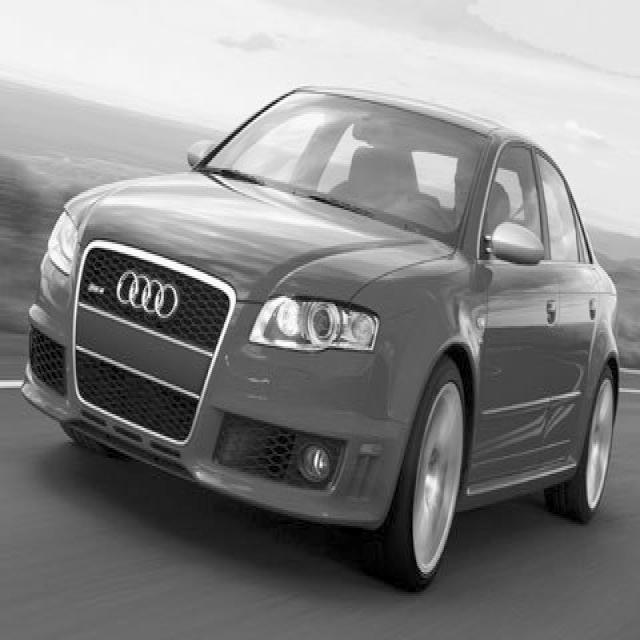car: (20, 82, 620, 590)
